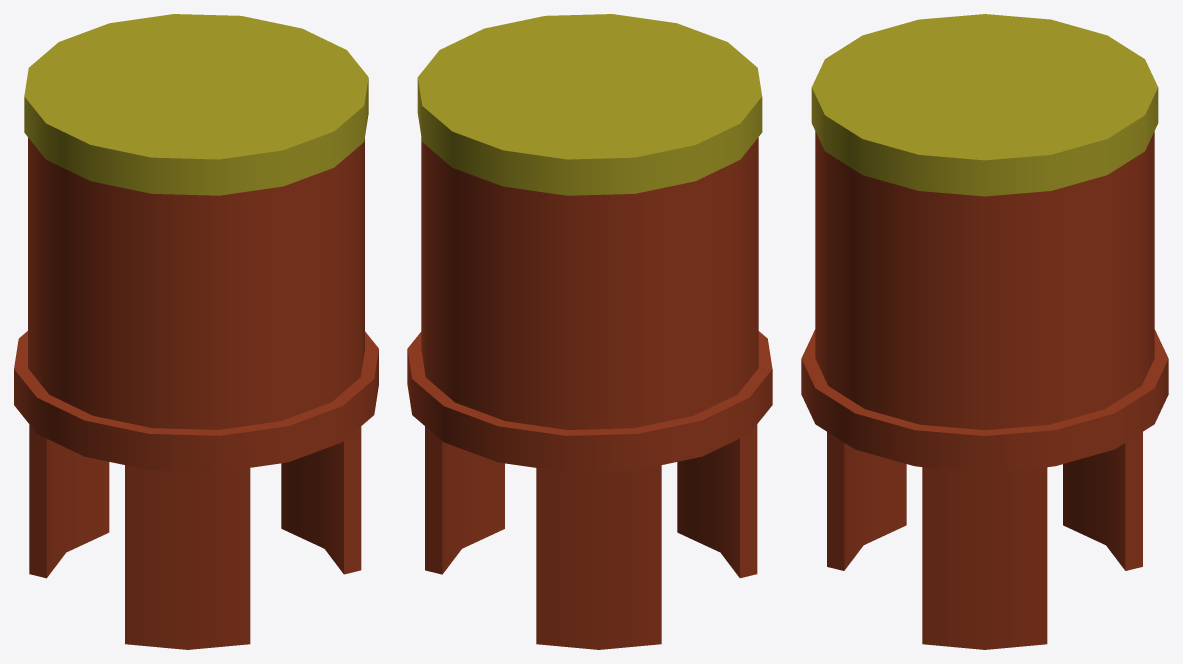
File: Instrument2.fbx
The picture shows the model from 3 angles, left to right: view 1: azimuth 30°, elevation 25°; view 2: azimuth 150°, elevation 25°; view 3: azimuth 270°, elevation 25°; orthographic projection.
Visible parts, largest first — view 1: Cylinder001; view 2: Cylinder001; view 3: Cylinder001.
Part boxes in pixels (box(x1,y1,x2,y2)): Cylinder001: box(14, 14, 378, 649); Cylinder001: box(407, 14, 772, 649); Cylinder001: box(801, 14, 1168, 649).
Size of the model in its own units: 21.31 by 31.5 by 21.31.
